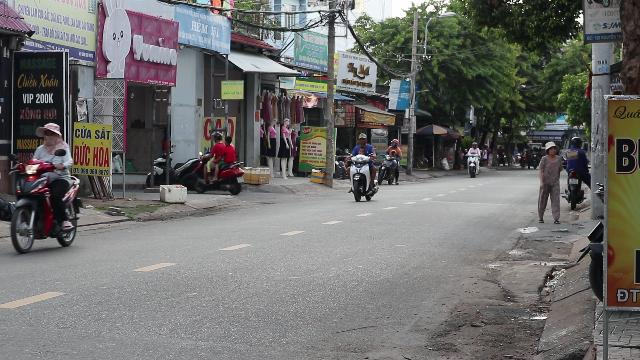motorcyclist: (4, 121, 84, 253)
nohelmet: (36, 122, 62, 144)
